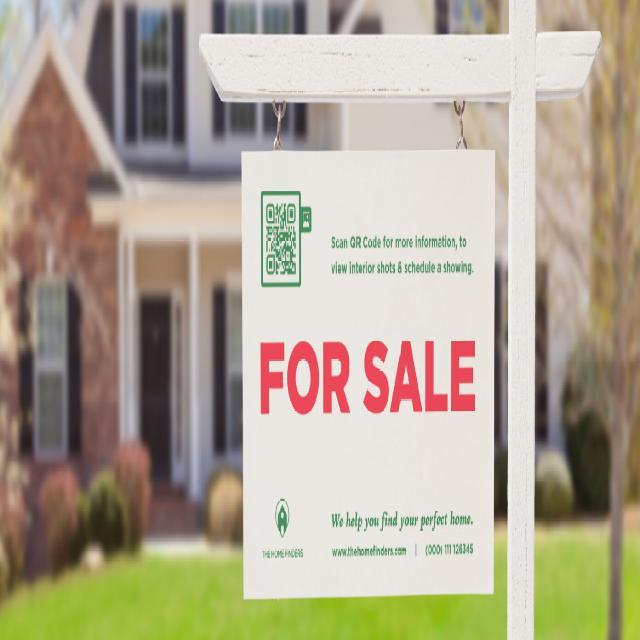qr_code: (266, 203, 296, 275)
